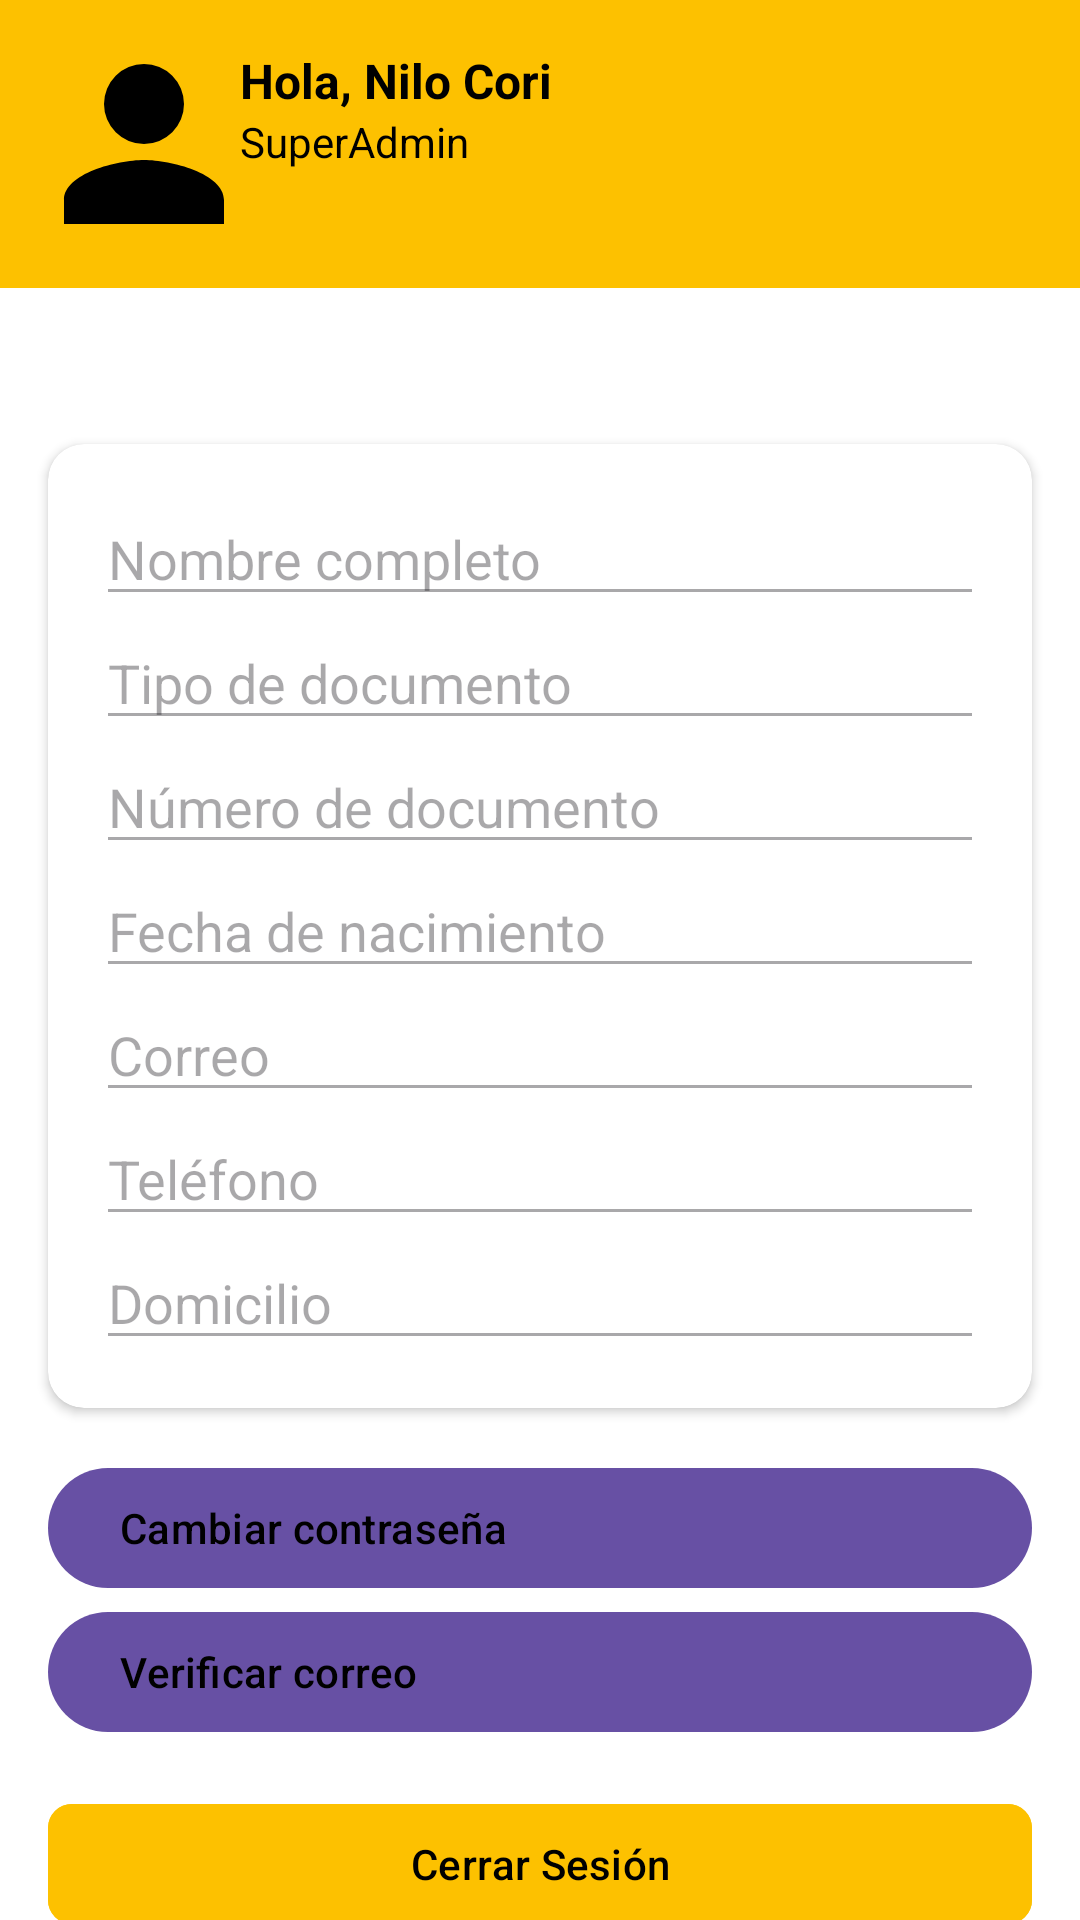

Named icons in this screenshot (1080×1920) and their bounding boxes, (x1, y1, x2, y2):
user: (64, 64, 224, 224)
